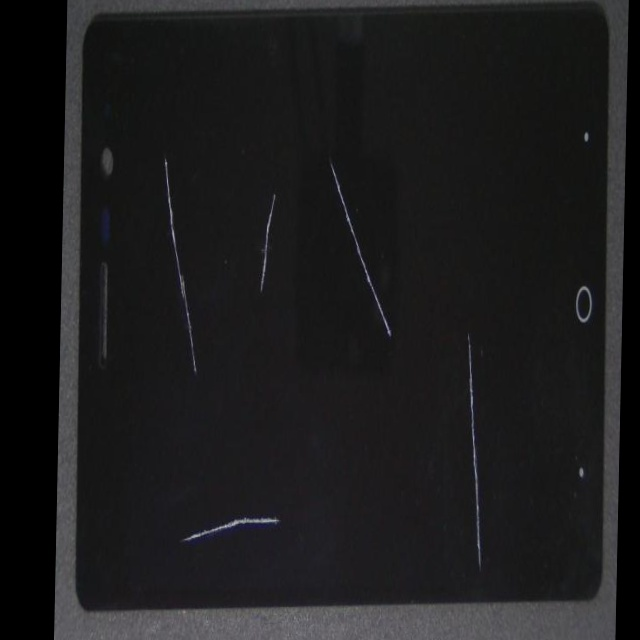scratch: (236, 234, 624, 640), (200, 214, 388, 640), (265, 269, 545, 469), (83, 0, 223, 388)
